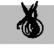not correct: (15, 0, 46, 40)
